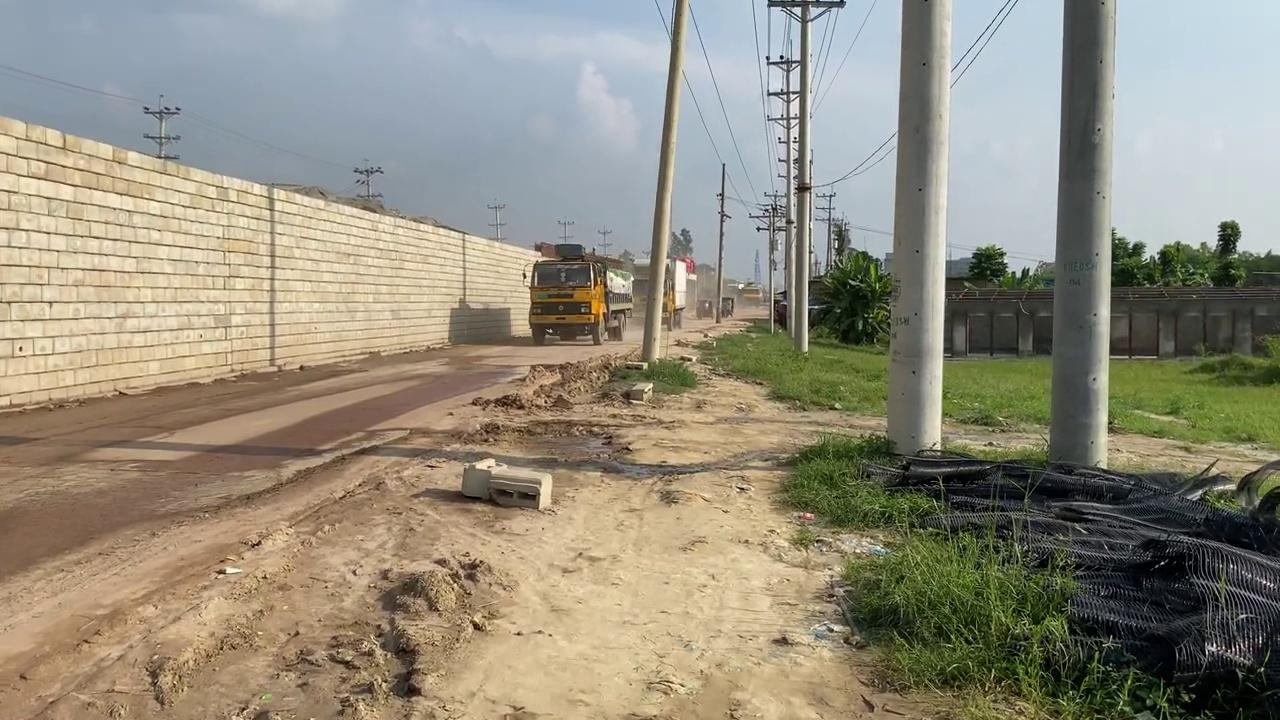Garbage: (858, 447, 1278, 699)
Obstacle: (460, 456, 552, 511), (628, 381, 653, 402)
Pole: (1047, 0, 1116, 469), (885, 0, 952, 456), (767, 0, 845, 354), (640, 0, 689, 363), (793, 2, 811, 354)
Rickshaw: (455, 308, 911, 718)
Traffic-sign: (808, 248, 892, 346), (965, 242, 1008, 287)
Tree: (522, 242, 634, 345), (631, 253, 689, 330), (694, 262, 735, 319), (662, 256, 688, 330)
Upstairs: (0, 113, 554, 409)
